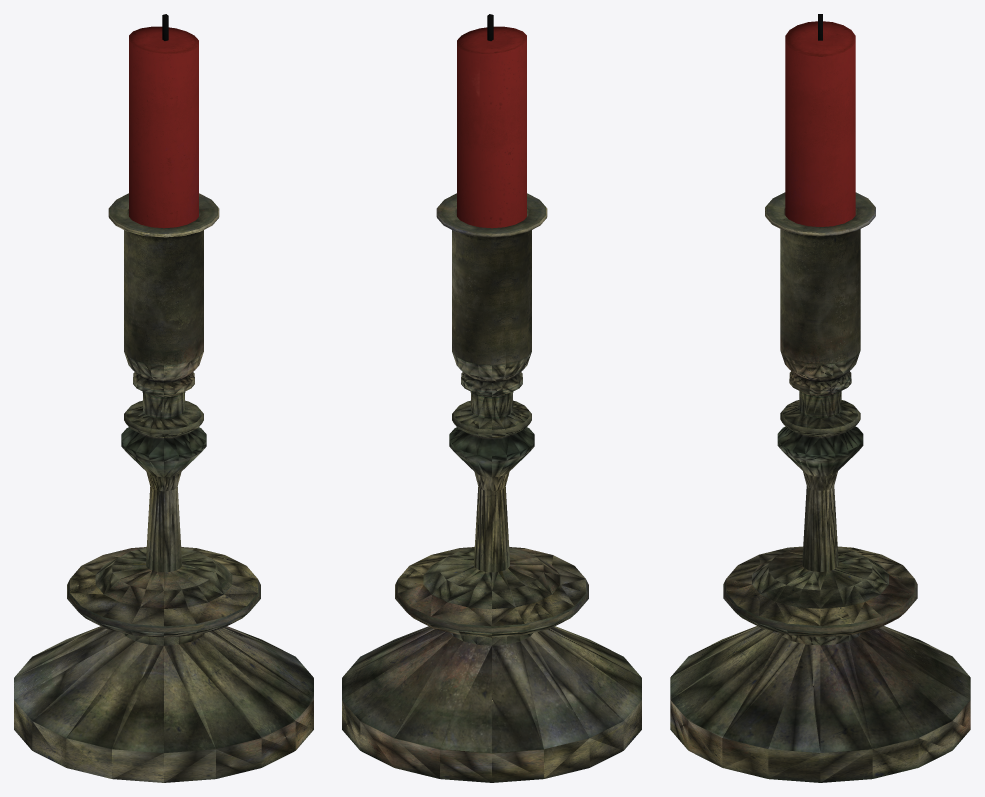
File: Candle Lamp.fbx
The picture shows the model from 3 angles, left to right: view 1: azimuth 30°, elevation 25°; view 2: azimuth 150°, elevation 25°; view 3: azimuth 270°, elevation 25°; orthographic projection.
Visible parts, largest first — view 1: Candle_LP; view 2: Candle_LP; view 3: Candle_LP.
Boxes of the visible parts, <box> form: Candle_LP: <box>14,14,313,782</box>; Candle_LP: <box>342,14,641,782</box>; Candle_LP: <box>670,14,970,782</box>.
Size of the model in its own units: 11.78 by 30.01 by 11.6.
